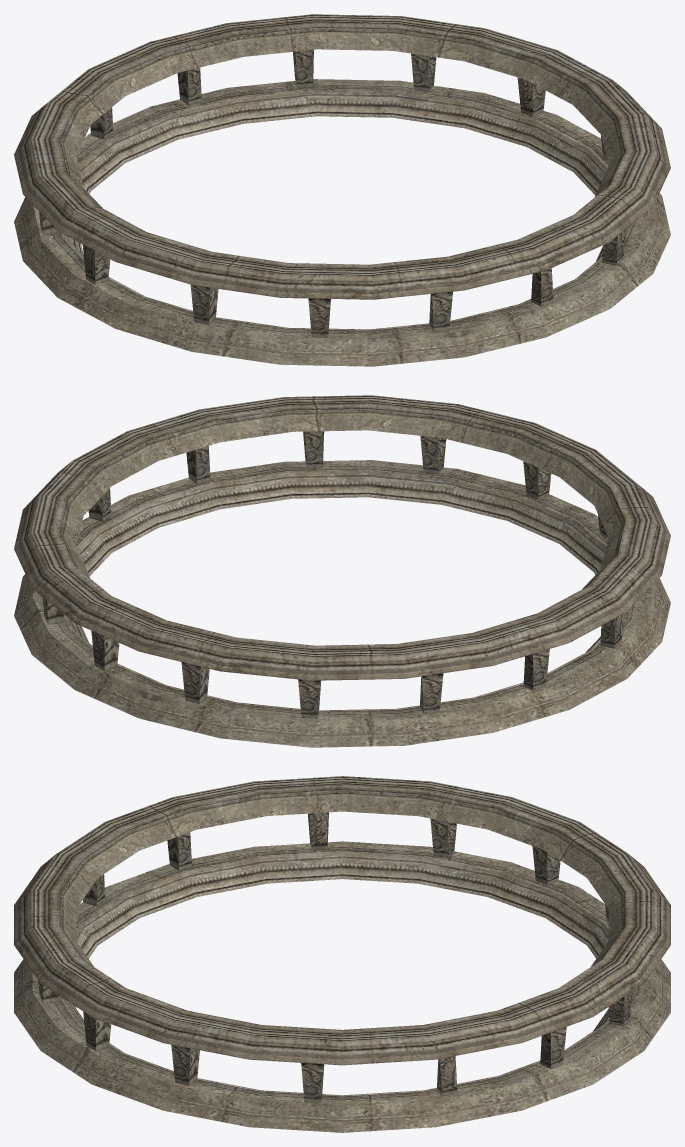
Rendered from SM_Plains_Castle_Circle_Railing_002.FBX.
3 views of the same model, one above another, from view 1: azimuth 30°, elevation 25°; view 2: azimuth 150°, elevation 25°; view 3: azimuth 270°, elevation 25° (orthographic).
Parts seen in each view (by area): view 1: SM_Plains_Castle_Circle_Railing_002; view 2: SM_Plains_Castle_Circle_Railing_002; view 3: SM_Plains_Castle_Circle_Railing_002.
Part boxes in pixels (x1,y1,x2,y2): SM_Plains_Castle_Circle_Railing_002: (14, 14, 670, 366); SM_Plains_Castle_Circle_Railing_002: (14, 395, 670, 747); SM_Plains_Castle_Circle_Railing_002: (14, 776, 670, 1132).
Size of the model in its own units: 175 by 24.38 by 173.
